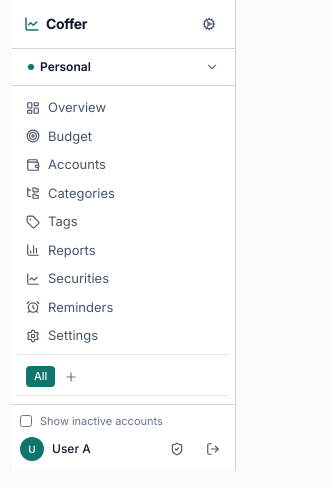
AuthedSidebar › offers the same dropdown when no ledger exists at all
The width and height of the screenshot is (332, 488).
Step 1. Click the button named "manage ledgers" → x=124, y=67, box [20,55,227,79]
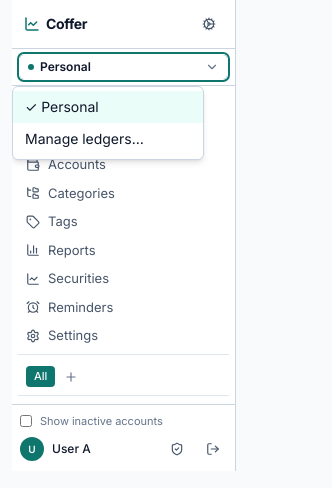
expect the menu item "Manage ledgers…" is shown: met, box [13,123,203,155]
